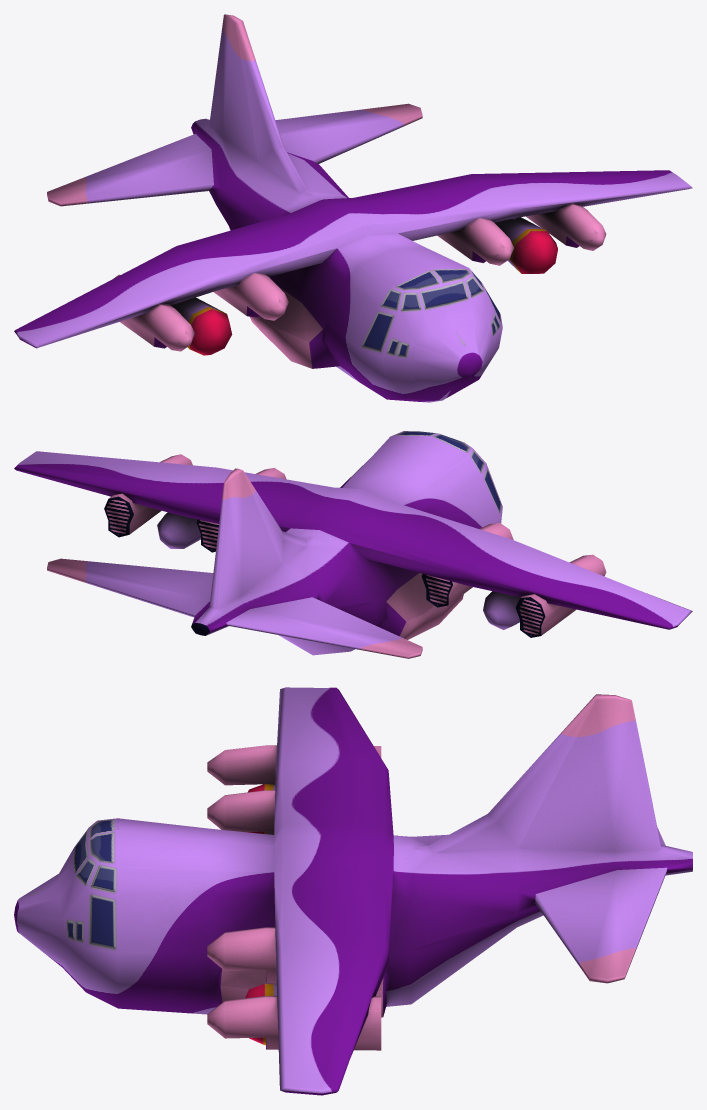
3 renders of one model, top to bottom at view 1: azimuth 30°, elevation 25°; view 2: azimuth 150°, elevation 25°; view 3: azimuth 270°, elevation 25°, orthographic. The views are drawn at different scales.
Visible parts, largest first — view 1: Catoon_AC130; view 2: Catoon_AC130; view 3: Catoon_AC130.
Boxes of the visible parts, <box> form: Catoon_AC130: <box>14,14,692,402</box>; Catoon_AC130: <box>14,431,692,658</box>; Catoon_AC130: <box>14,687,692,1095</box>.
Bounding box in the file's own units: 105 × 38.13 × 74.86.
Materials: 1 (1 with a texture image).
